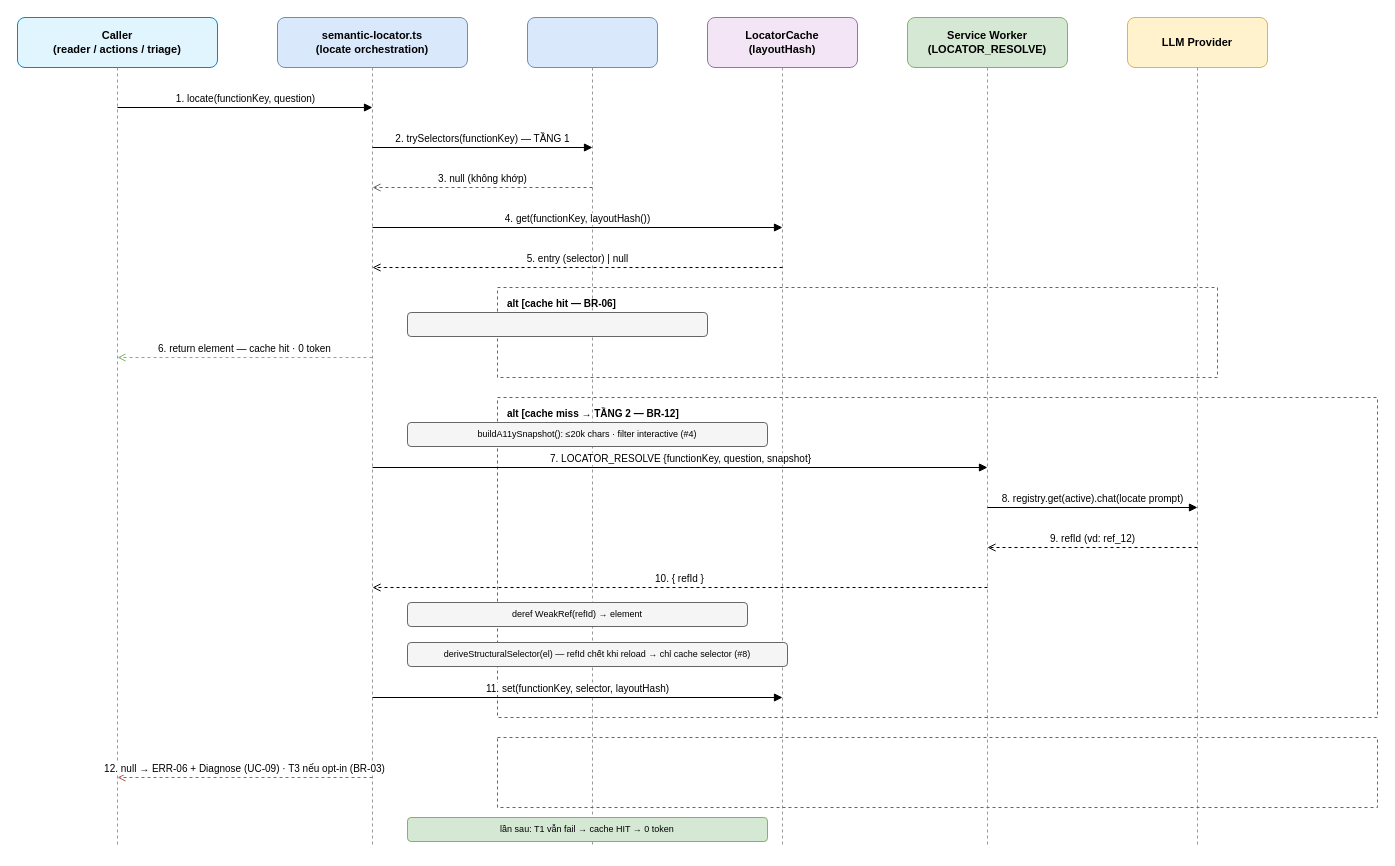
The diagram is 1395 pixels wide and 866 high, and some of its shapes have lost their labels. Here are the shapes that lost their labels. From the top down, the centre of each, then its label:
[592,42]: T1 selectors (<1ms · 0 token)
[557,324]: querySelector(value) → element
[937,772]: alt [T2 thất bại]
